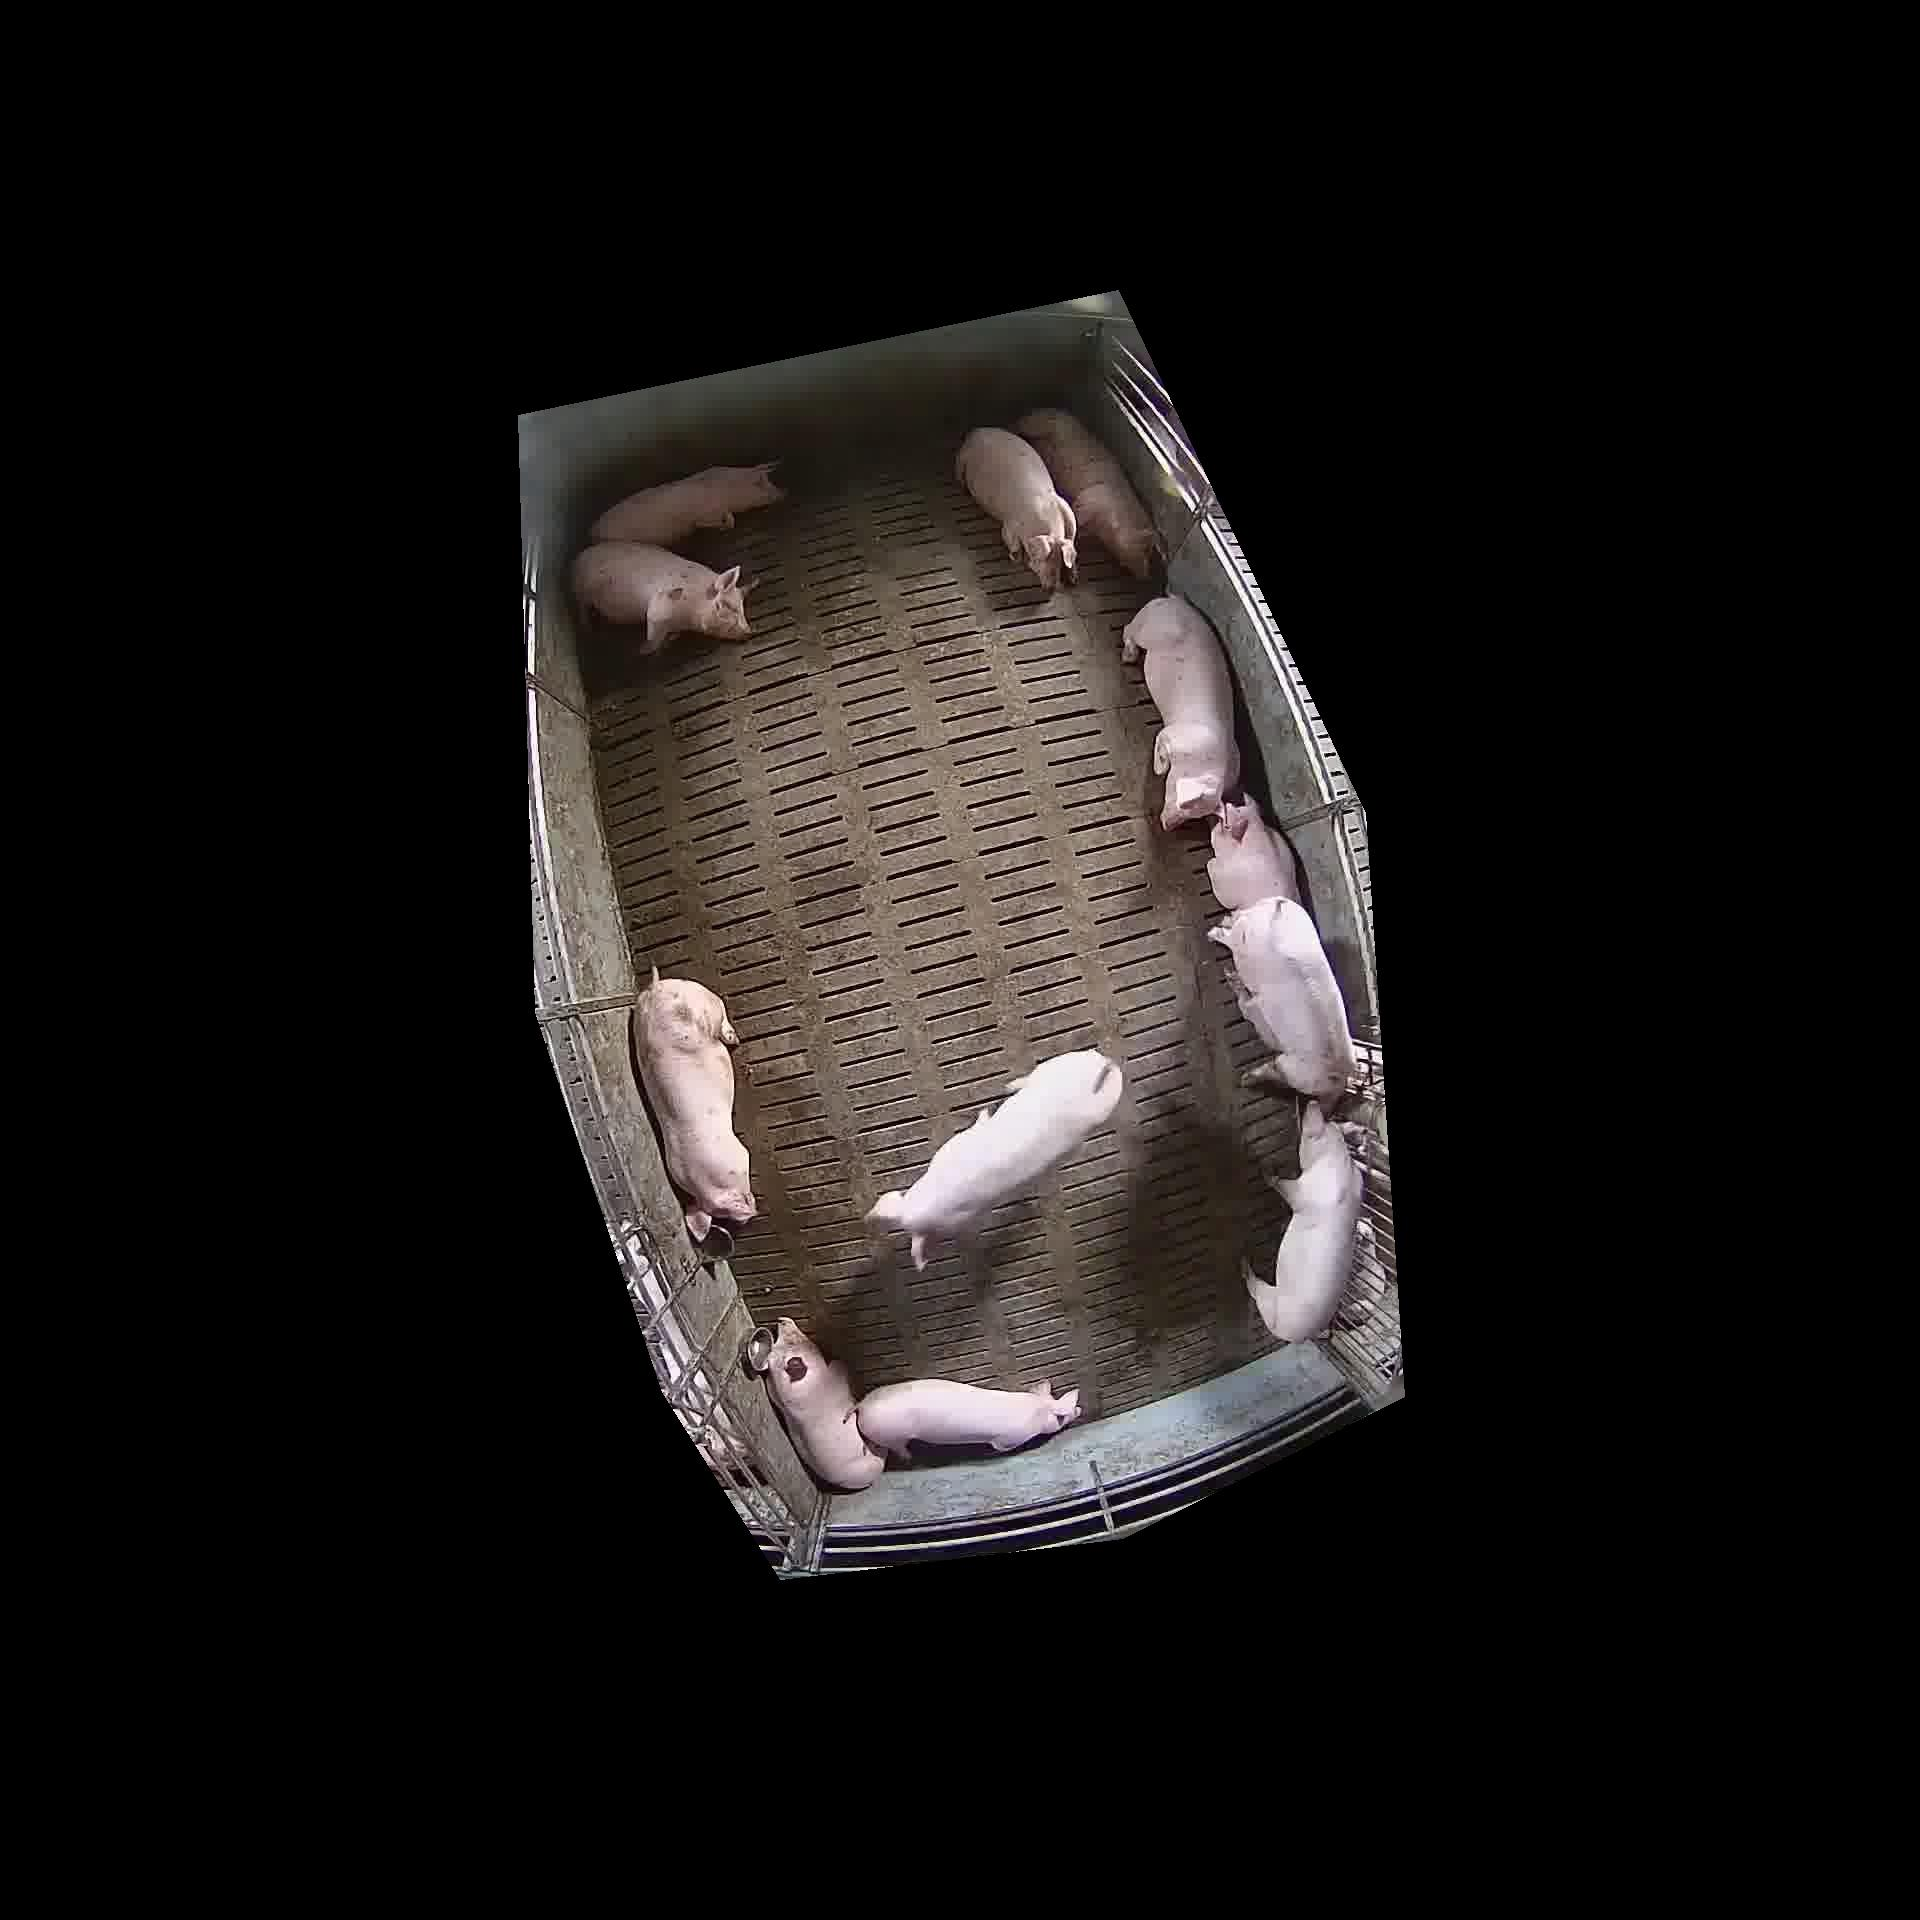pig: (865, 1050, 1122, 1269), (634, 972, 755, 1241), (1209, 896, 1357, 1109), (1245, 1102, 1362, 1342), (1123, 595, 1239, 828), (1015, 408, 1160, 577), (763, 1317, 884, 1489), (573, 541, 750, 653), (956, 428, 1075, 590), (857, 1379, 1080, 1457), (591, 462, 783, 545), (1207, 795, 1299, 910)
